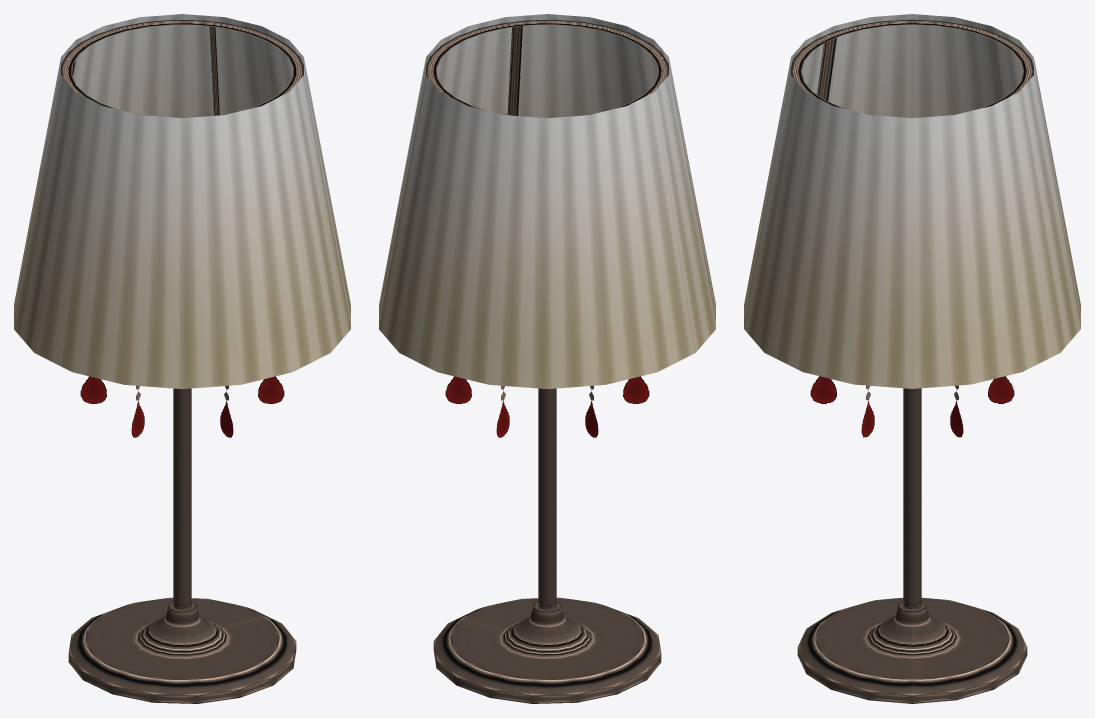
Rendered from TableLamp.FBX.
3 views of the same model, side by side, from view 1: azimuth 30°, elevation 25°; view 2: azimuth 150°, elevation 25°; view 3: azimuth 270°, elevation 25° (orthographic).
Parts seen in each view (by area): view 1: TableLamp06; view 2: TableLamp06; view 3: TableLamp06.
Part boxes in pixels (x1=…): TableLamp06: x1=14, y1=14, x2=350, y2=703; TableLamp06: x1=379, y1=14, x2=715, y2=703; TableLamp06: x1=744, y1=14, x2=1080, y2=703.
Bounding box in the file's own units: 43.96 × 43.29 × 83.61.
